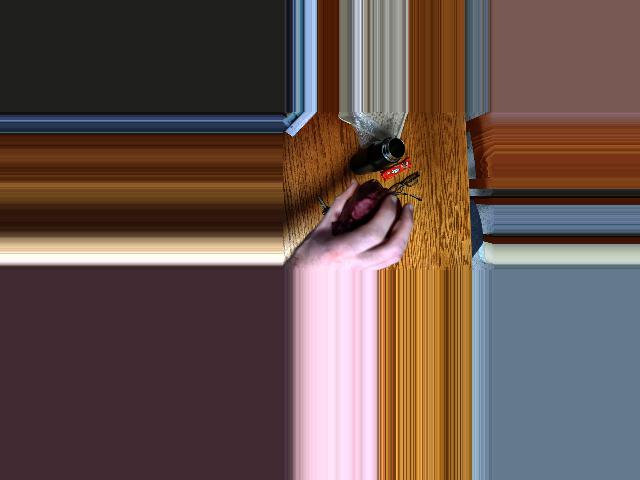onion: (327, 185, 400, 237)
